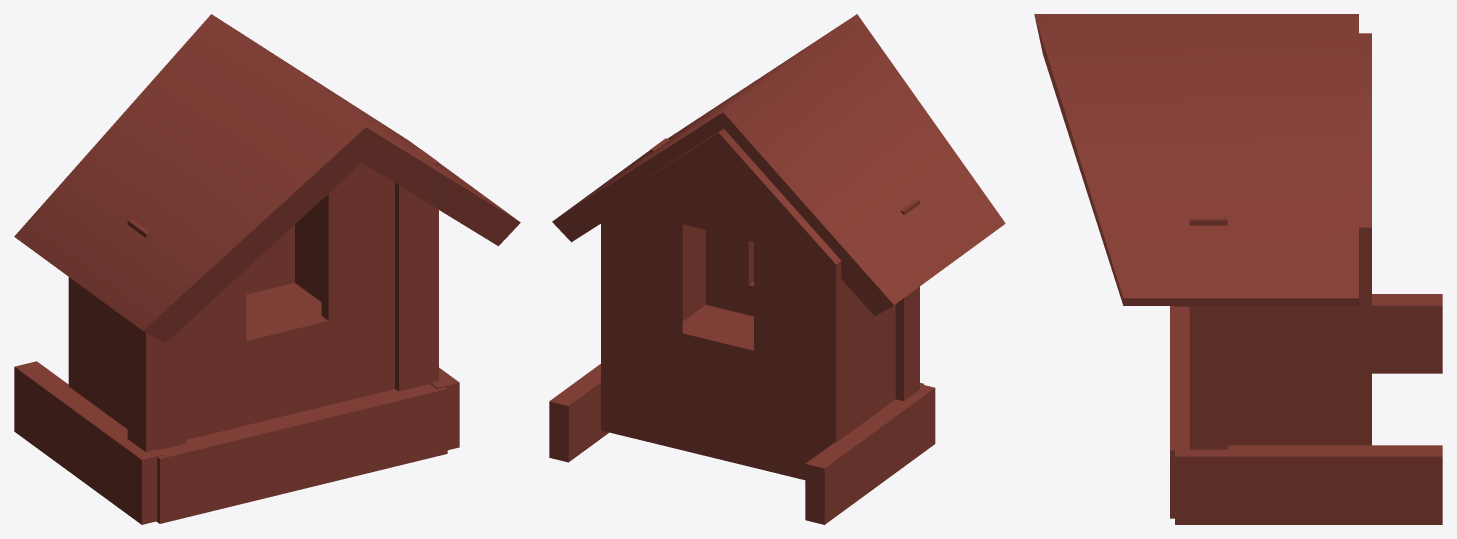
The model's file is bay_window_0.fbx.
3 views of the same model, side by side, from view 1: azimuth 30°, elevation 25°; view 2: azimuth 150°, elevation 25°; view 3: azimuth 270°, elevation 25° (orthographic). The views are drawn at different scales.
Parts seen in each view (by area): view 1: bay_window_0; view 2: bay_window_0; view 3: bay_window_0.
Boxes of the visible parts, left/top/right/bottom form: bay_window_0: left=14, top=14, right=520, bottom=524; bay_window_0: left=549, top=14, right=1005, bottom=524; bay_window_0: left=1034, top=14, right=1442, bottom=524.
Bounding box in the file's own units: 321 × 318 × 274.
